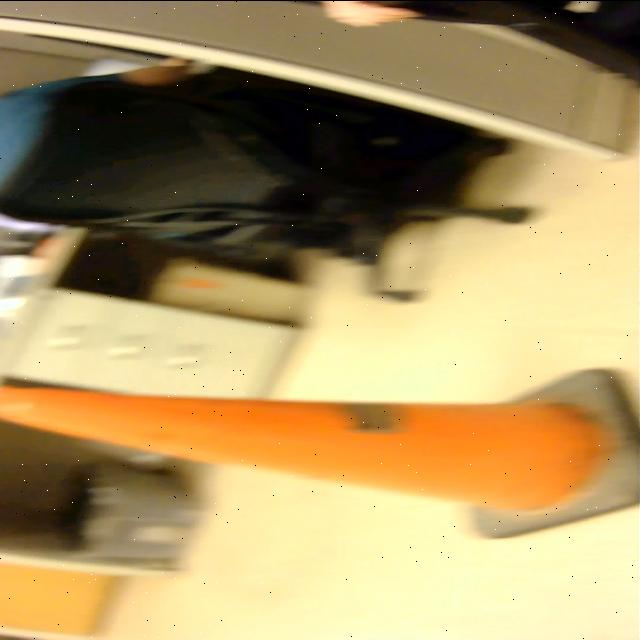traffic cone: (1, 363, 640, 543)
